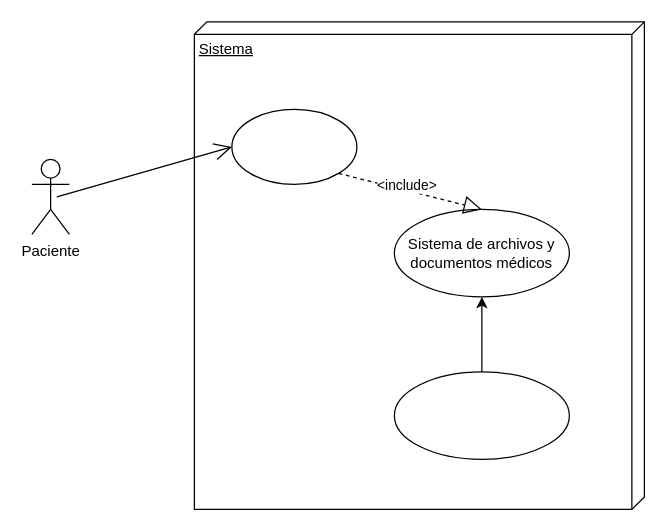
This 666x531 diagram has some shape labels left out. Here are the shapes that lost their labels. From the top down, the centre of each, then its label:
pixel 294 146: Descargar Documentos Medicos
pixel 481 415: Base de datos de documentos medicos
